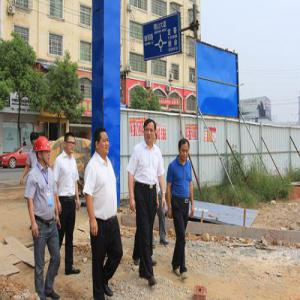none: (94, 130, 111, 159), (143, 116, 157, 147), (64, 132, 76, 157), (178, 138, 191, 161)
red: (35, 137, 52, 167)
